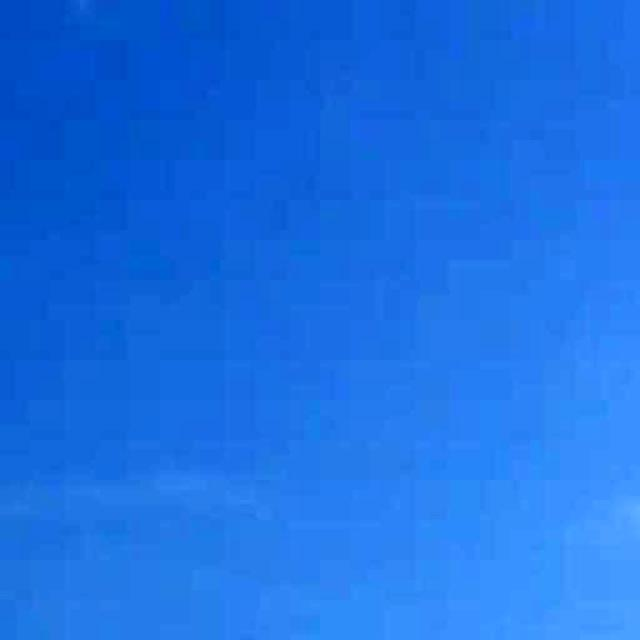drone: (219, 620, 268, 640)
